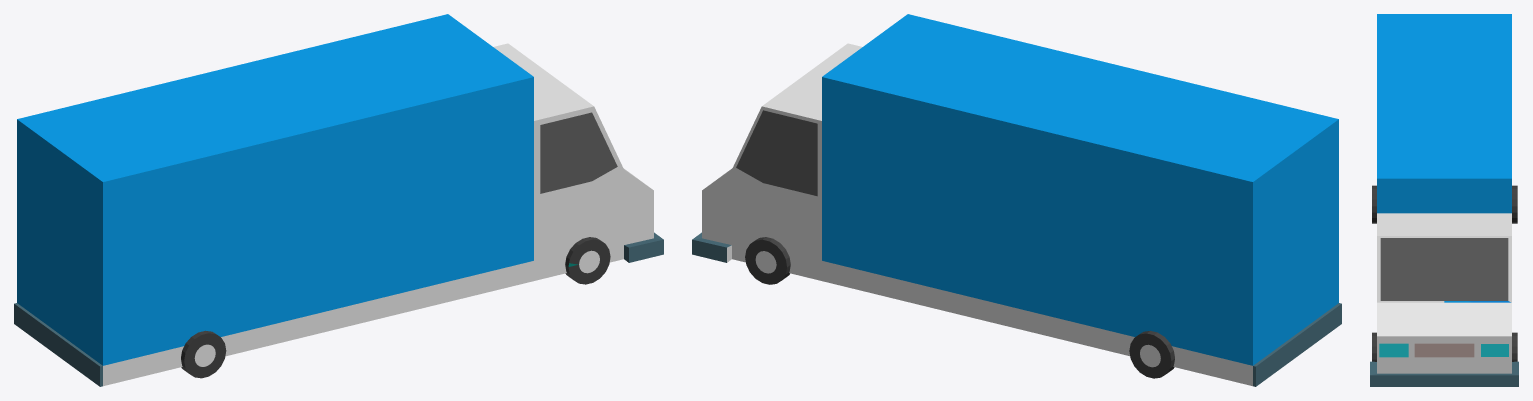
File: Kamionce3x1Blue.fbx
3 renders of one model, left to right at view 1: azimuth 30°, elevation 25°; view 2: azimuth 150°, elevation 25°; view 3: azimuth 270°, elevation 25°, orthographic. The views are drawn at different scales.
Parts seen in each view (by area): view 1: Car_08_4; view 2: Car_08_4; view 3: Car_08_4.
Part boxes in pixels (bbox=[...]): Car_08_4: bbox=[14, 14, 663, 386]; Car_08_4: bbox=[692, 14, 1341, 386]; Car_08_4: bbox=[1370, 14, 1518, 386].
Bounding box in the file's own units: 2.98 × 1.1 × 0.8755.
1 material, 1 textured.
